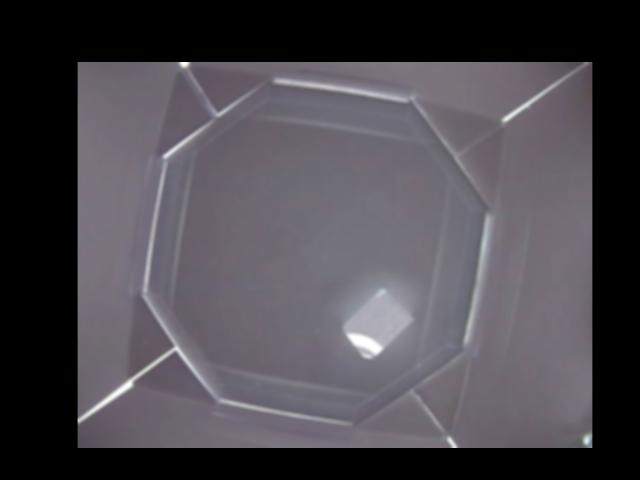China: (342, 289, 413, 359)
